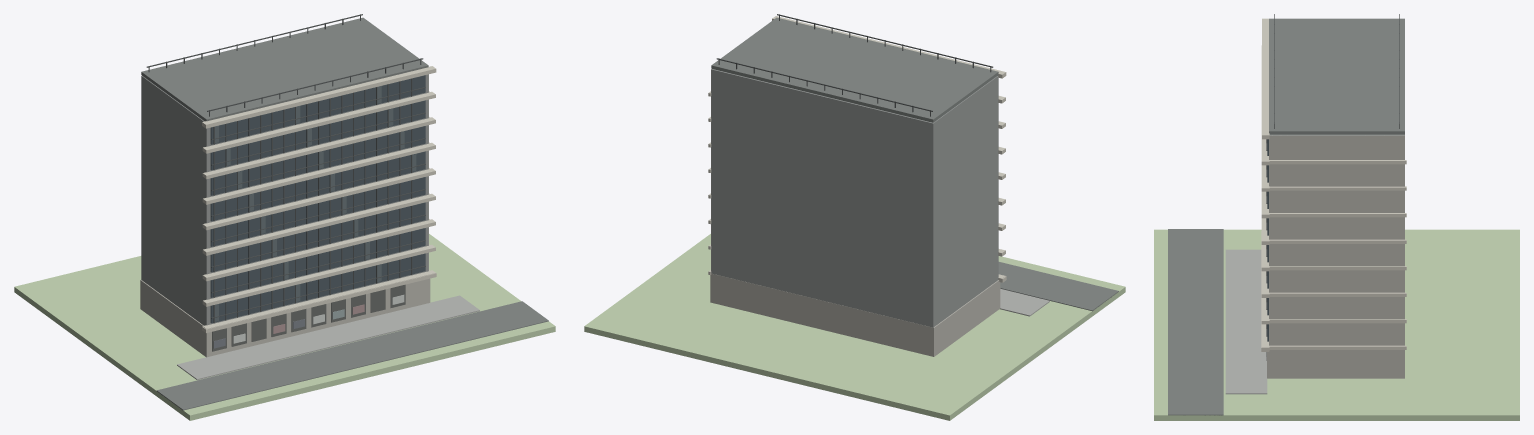
The model's file is Edificion_1.glb.
3 views of the same model, side by side, from view 1: azimuth 30°, elevation 25°; view 2: azimuth 150°, elevation 25°; view 3: azimuth 270°, elevation 25° (orthographic). The views are drawn at different scales.
Parts seen in each view (by area): view 1: Base del mapa, Cuerpo del edificio, Azotea, Calle frontal, Acera frontal, Planta baja, Banda acristalada piso 3, Banda acristalada piso 4, Banda acristalada piso 2, Banda acristalada piso 1, Banda acristalada piso 6, Banda acristalada piso 5 (+12 smaller); view 2: Cuerpo del edificio, Base del mapa, Azotea, Planta baja, Calle frontal, Acera frontal, Cornisa superior; view 3: Base del mapa, Fachada lateral derecha, Azotea, Calle frontal, Acera frontal, Planta baja, Cornisa superior, Borde lateral de losa, Borde lateral de losa.001, Borde lateral de losa.002, Borde lateral de losa.003, Borde lateral de losa.004 (+3 smaller).
Boxes of the visible parts, x1,y1,x2,y2 form: Base del mapa: [14, 234, 555, 420]; Cuerpo del edificio: [141, 74, 428, 325]; Azotea: [141, 17, 428, 121]; Calle frontal: [156, 301, 548, 410]; Acera frontal: [177, 295, 479, 379]; Planta baja: [140, 278, 430, 357]; Banda acristalada piso 3: [210, 202, 425, 272]; Banda acristalada piso 4: [210, 177, 425, 246]; Banda acristalada piso 2: [210, 228, 425, 297]; Banda acristalada piso 1: [210, 253, 425, 323]; Banda acristalada piso 6: [210, 126, 425, 195]; Banda acristalada piso 5: [210, 151, 425, 221]; Cuerpo del edificio: [711, 69, 998, 327]; Base del mapa: [584, 234, 1125, 420]; Azotea: [711, 17, 998, 122]; Planta baja: [710, 273, 1000, 356]; Calle frontal: [998, 262, 1118, 311]; Acera frontal: [1000, 288, 1049, 316]; Cornisa superior: [772, 16, 1006, 78]; Base del mapa: [1154, 229, 1519, 420]; Fachada lateral derecha: [1269, 135, 1404, 345]; Azotea: [1269, 18, 1404, 134]; Calle frontal: [1168, 229, 1223, 415]; Acera frontal: [1225, 249, 1267, 394]; Planta baja: [1267, 350, 1404, 378]; Cornisa superior: [1262, 18, 1269, 139]; Borde lateral de losa: [1269, 345, 1406, 349]; Borde lateral de losa.001: [1269, 319, 1406, 323]; Borde lateral de losa.002: [1269, 292, 1406, 296]; Borde lateral de losa.003: [1269, 266, 1406, 270]; Borde lateral de losa.004: [1269, 239, 1406, 243].
Size of the model in its own units: 42 by 27.4 by 35.
